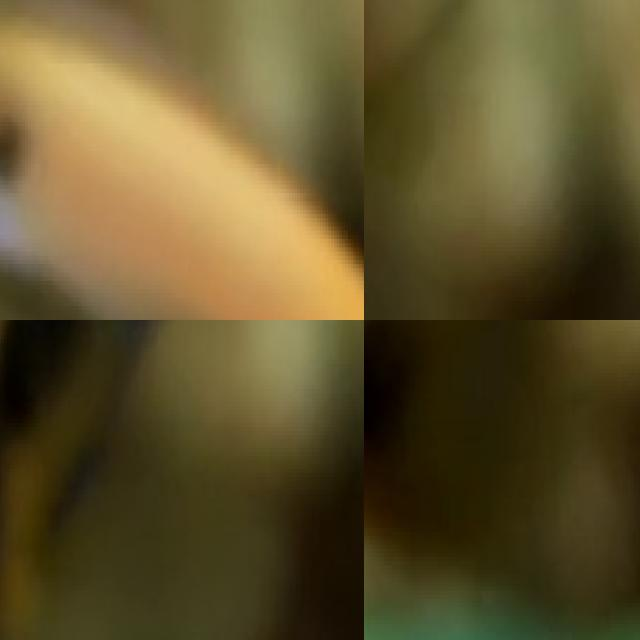fish: (0, 0, 364, 320), (0, 320, 295, 640)
